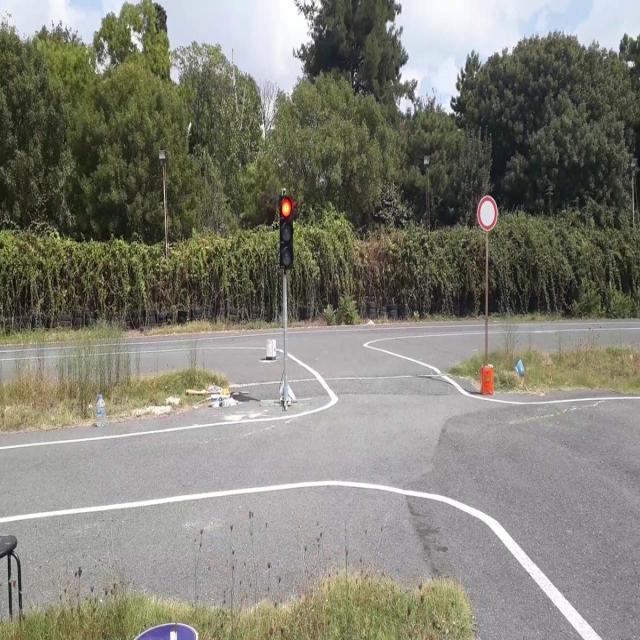kirmizi: (279, 194, 293, 268)
